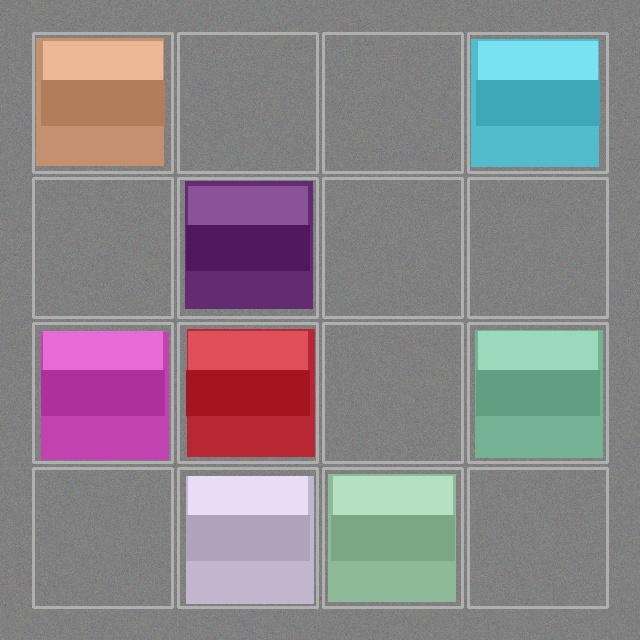space-empty: (180, 35, 315, 170), (325, 35, 460, 170), (35, 180, 170, 315), (325, 180, 460, 315), (470, 180, 605, 315), (325, 325, 460, 460), (35, 470, 170, 605), (470, 470, 605, 605)
space-occupied: (35, 35, 170, 170), (470, 35, 605, 170), (180, 180, 315, 315), (35, 325, 170, 460), (180, 325, 315, 460), (470, 325, 605, 460), (180, 470, 315, 605), (325, 470, 460, 605)
